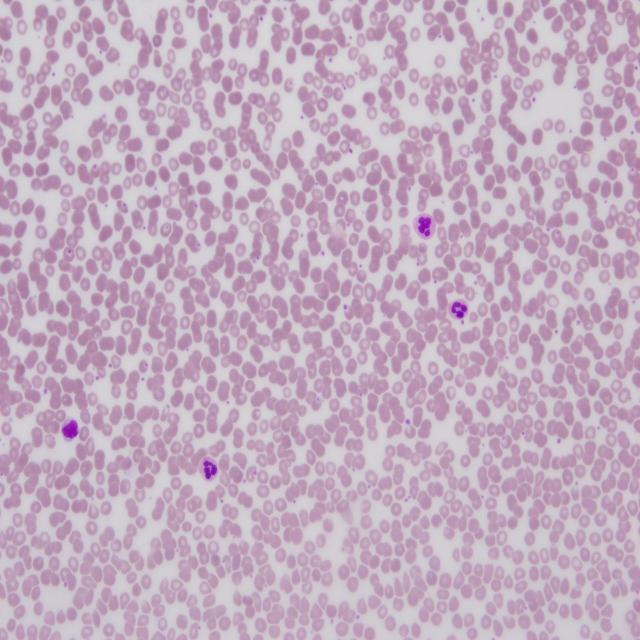cell: (414, 214, 436, 239), (199, 457, 218, 480), (449, 300, 468, 319)
